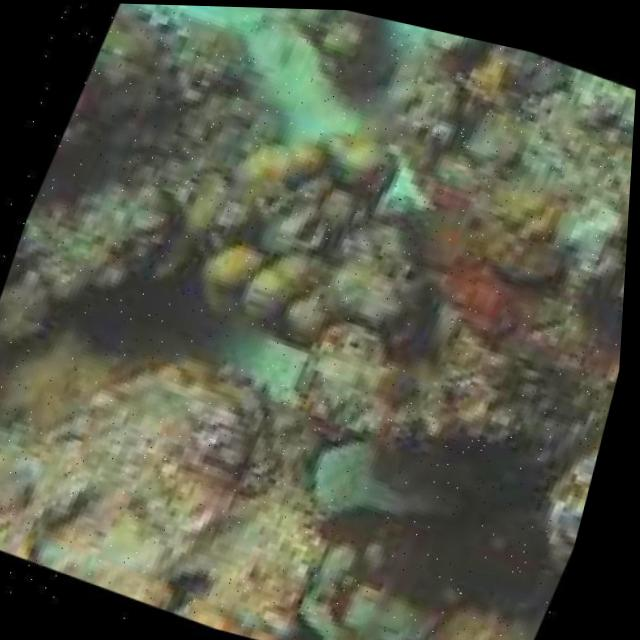Dead Coral: (27, 5, 283, 325)
